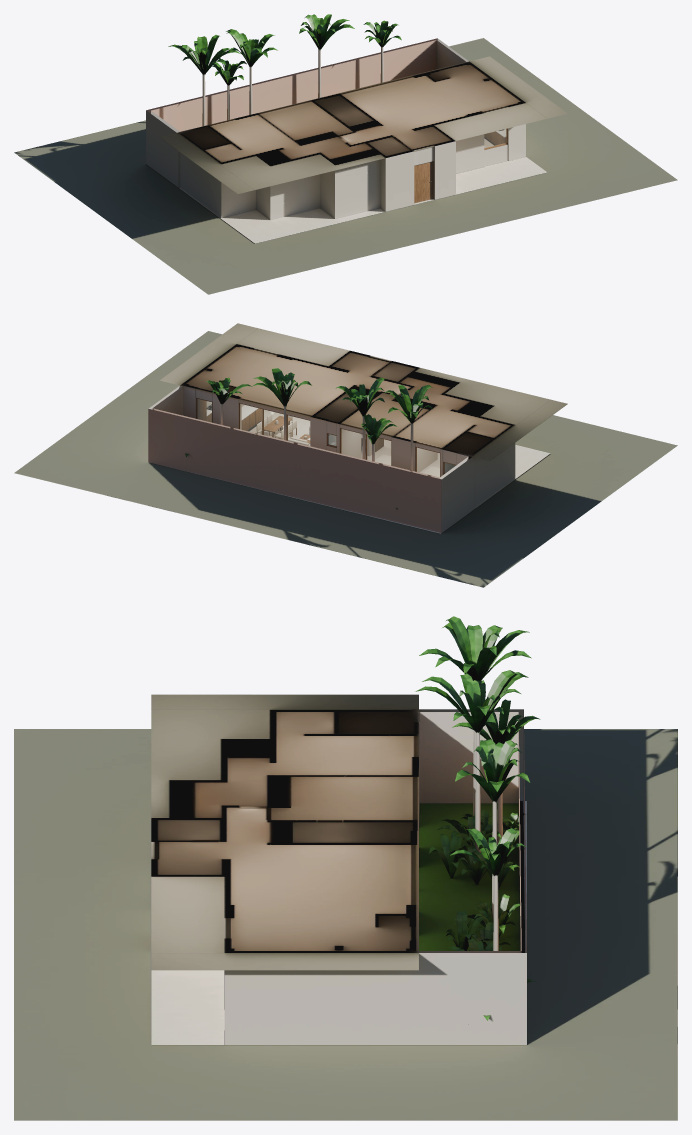
The picture shows the model from 3 angles, top to bottom: view 1: azimuth 30°, elevation 25°; view 2: azimuth 150°, elevation 25°; view 3: azimuth 270°, elevation 25°; orthographic projection. The views are drawn at different scales.
Visible parts, largest first — view 1: D3_muros, D3_piso, D3_muebles, D3_carp; view 2: D3_muros, D3_piso, D3_muebles, D3_vidrio, D3_carp; view 3: D3_piso, D3_muros, D3_muebles.
Boxes of the visible parts, left/top/right/bottom form: D3_muros: left=146, top=38, right=567, bottom=219; D3_piso: left=14, top=38, right=677, bottom=294; D3_muebles: left=168, top=14, right=506, bottom=181; D3_carp: left=414, top=128, right=507, bottom=203; D3_muros: left=148, top=323, right=567, bottom=532; D3_piso: left=14, top=331, right=677, bottom=587; D3_muebles: left=185, top=368, right=439, bottom=509; D3_vidrio: left=198, top=399, right=455, bottom=476; D3_carp: left=196, top=398, right=456, bottom=476; D3_piso: left=14, top=729, right=677, bottom=1120; D3_muros: left=151, top=694, right=526, bottom=1044; D3_muebles: left=415, top=616, right=540, bottom=1020.
Size of the model in its own units: 27 by 6.8 by 19.35.
5 materials, 4 textured.
